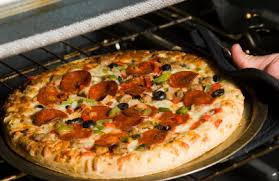pizza: (8, 58, 239, 173)
